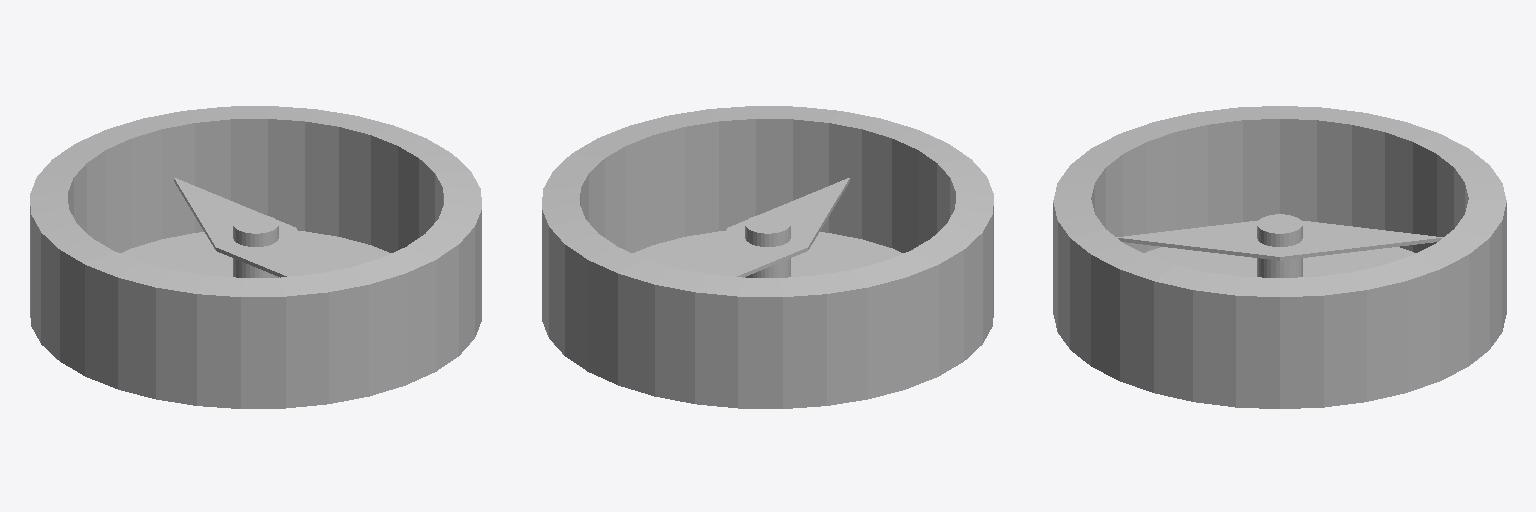
File: compass.obj
3 views of the same model, side by side, from view 1: azimuth 30°, elevation 25°; view 2: azimuth 150°, elevation 25°; view 3: azimuth 270°, elevation 25° (orthographic).
Visible parts, largest first — view 1: Cylinder, Cube.001, Cube, Cylinder.001; view 2: Cylinder, Cube, Cube.001, Cylinder.001; view 3: Cylinder, Cube.001, Cube, Cylinder.001.
Part boxes in pixels (x1,y1,x2,y2): Cylinder: (30,106,481,408); Cube.001: (216,228,322,277); Cube: (174,178,295,249); Cylinder.001: (233,214,278,277); Cylinder: (542,106,993,408); Cube: (701,228,807,277); Cube.001: (728,178,849,249); Cylinder.001: (745,214,790,277); Cylinder: (1053,106,1506,408); Cube.001: (1116,220,1279,260); Cube: (1280,220,1443,260); Cylinder.001: (1257,214,1302,277).
Bounding box in the file's own units: 2 × 0.5598 × 2.